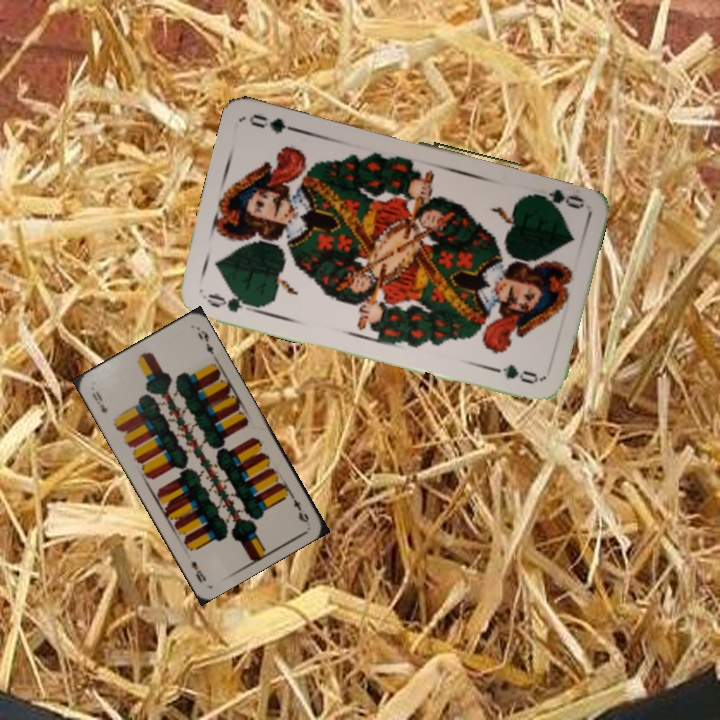E9: (285, 489, 312, 525), (88, 387, 111, 416)
GO: (526, 185, 586, 212), (201, 289, 259, 315)
